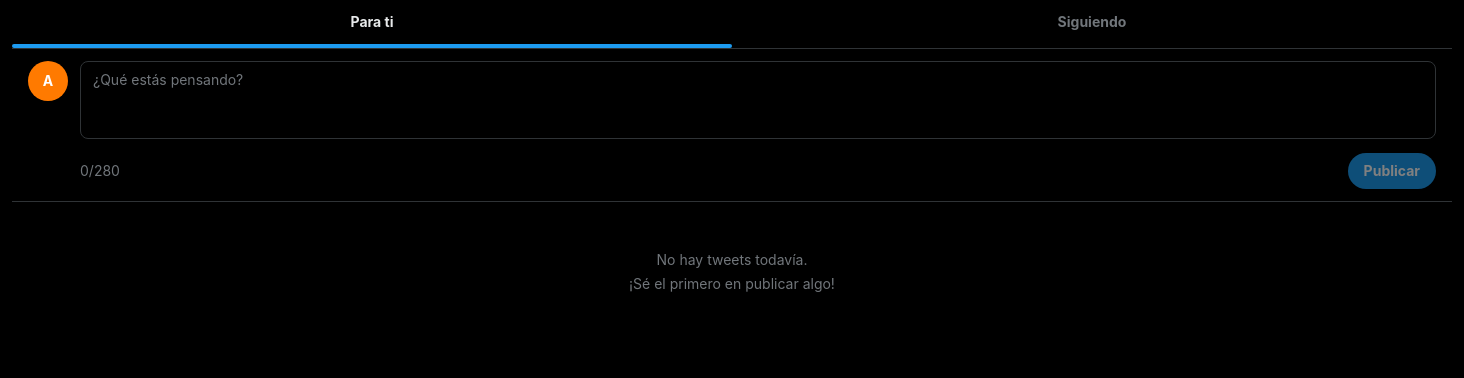
HomePage — crear tweet (integración) › caso éxito: crea un tweet y aparece en el feed
expect the text "No hay tweets todavía." is shown: met, box [656,251,807,268]
Escribir en el compositor
Type "Hola desde Pulse" into the text box named "Contenido del tweet" at (758, 100), box [80,61,1436,139]
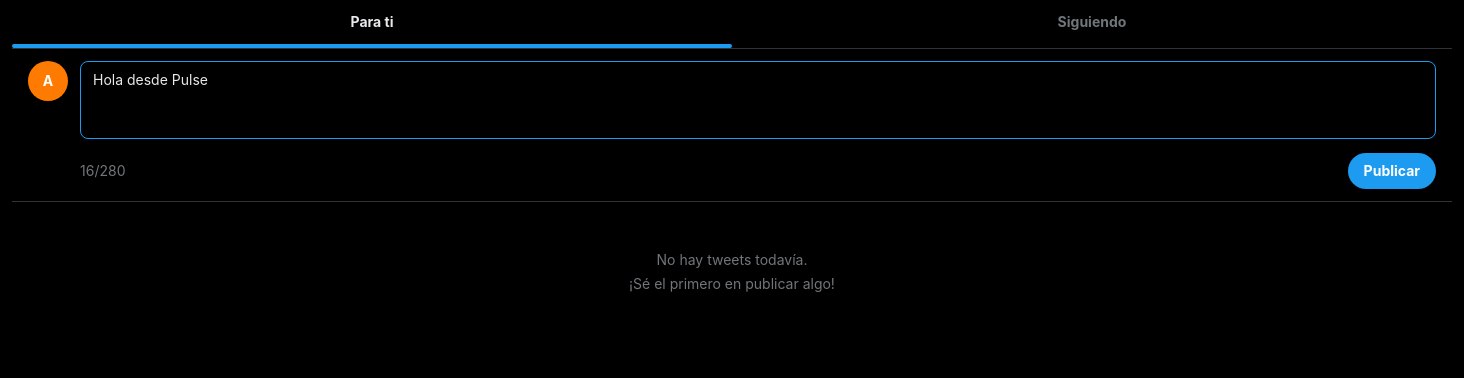
expect the button "Publicar" is enabled: met
Click the button "Publicar" at (1392, 171), box [1348,153,1436,189]
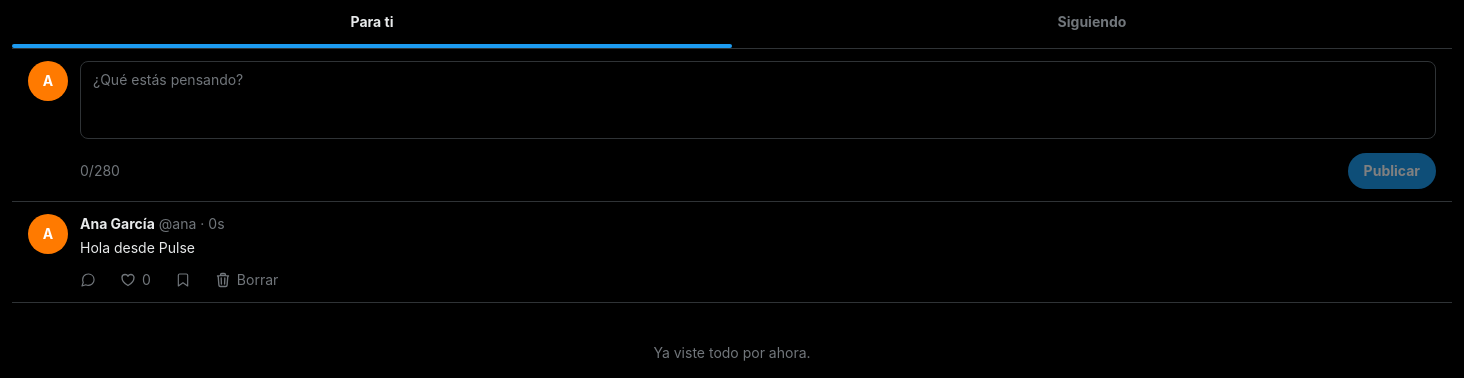
expect the text "Hola desde Pulse" is shown: met, box [80,239,195,256]
expect the text box named "Contenido del tweet" is empty: met, box [80,61,1436,139]
